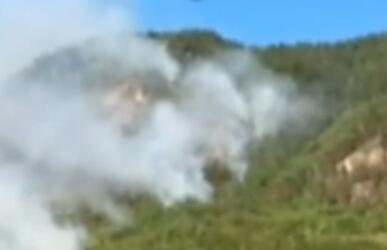yanwu: (1, 4, 309, 250)
